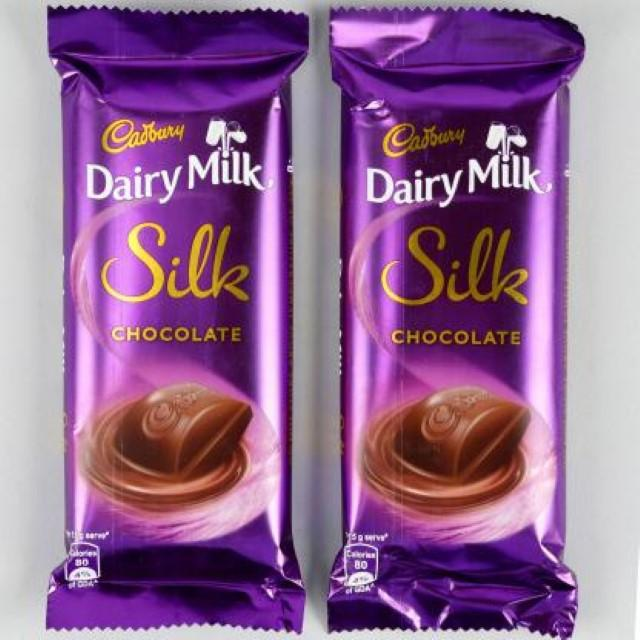cadbury_chocolate: (45, 11, 311, 640), (338, 15, 578, 625)
